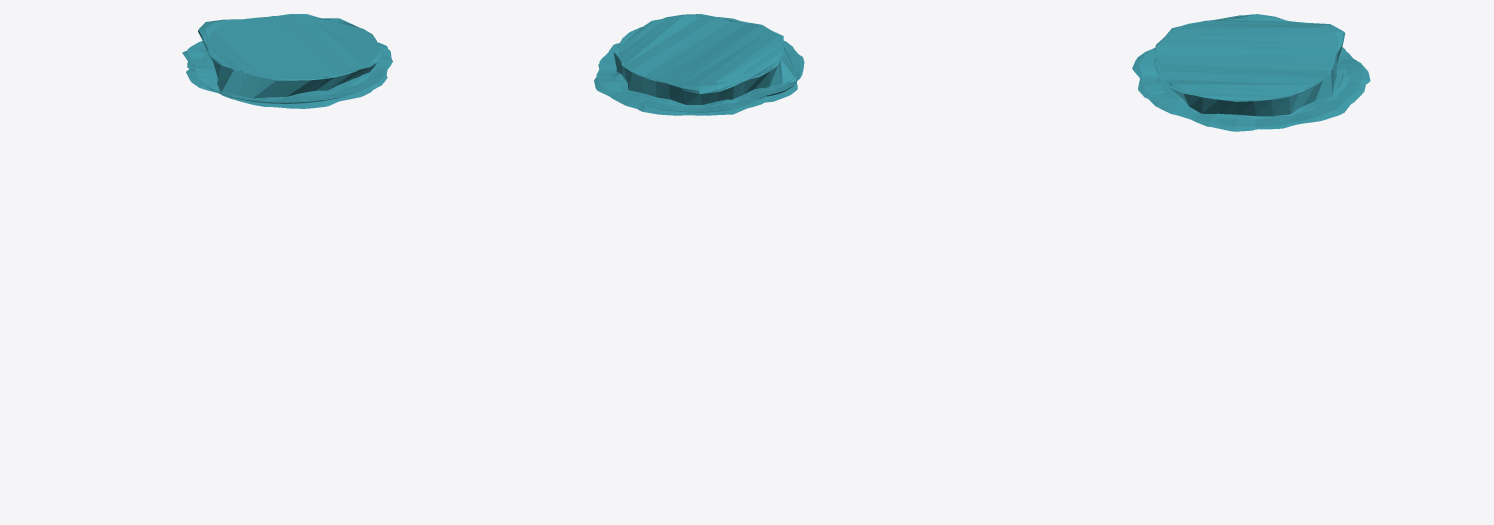
The model's file is crush_high_1.obj.
3 renders of one model, left to right at view 1: azimuth 30°, elevation 25°; view 2: azimuth 150°, elevation 25°; view 3: azimuth 270°, elevation 25°, orthographic. The views are drawn at different scales.
Parts seen in each view (by area): view 1: model; view 2: model; view 3: model.
Part boxes in pixels (bbox=[...]): model: bbox=[182, 14, 392, 108]; model: bbox=[594, 14, 804, 115]; model: bbox=[1132, 14, 1370, 131].
Size of the model in its own units: 0.0834 by 0.0731 by 0.075.
1 material, 1 textured.
